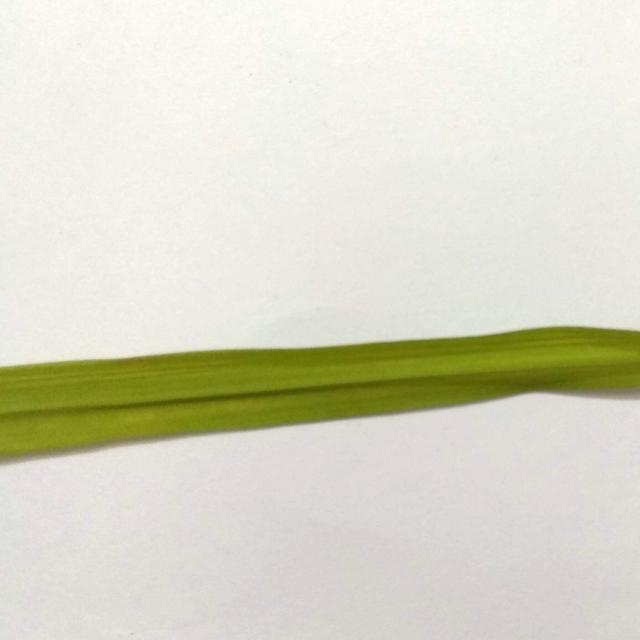Rice_Healthy: (0, 328, 640, 456)
